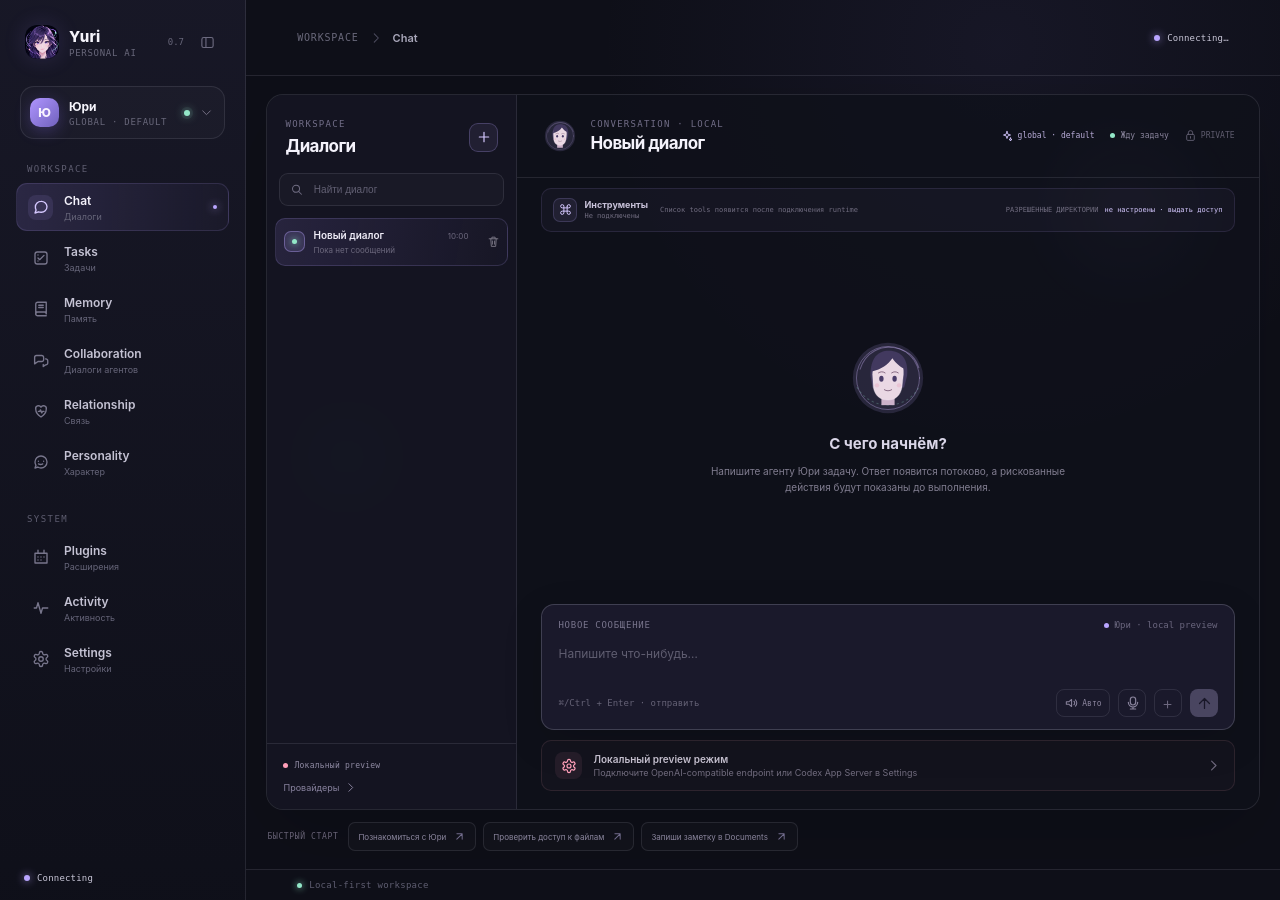
Test: portable agent profiles › opens a validated profile in the ordinary creation review without creating it
What coordinates should you click on to do the following:
click the button with class "sidebar__profile"
I would click on:
 (122, 112)
Its box is [20,86,225,139].
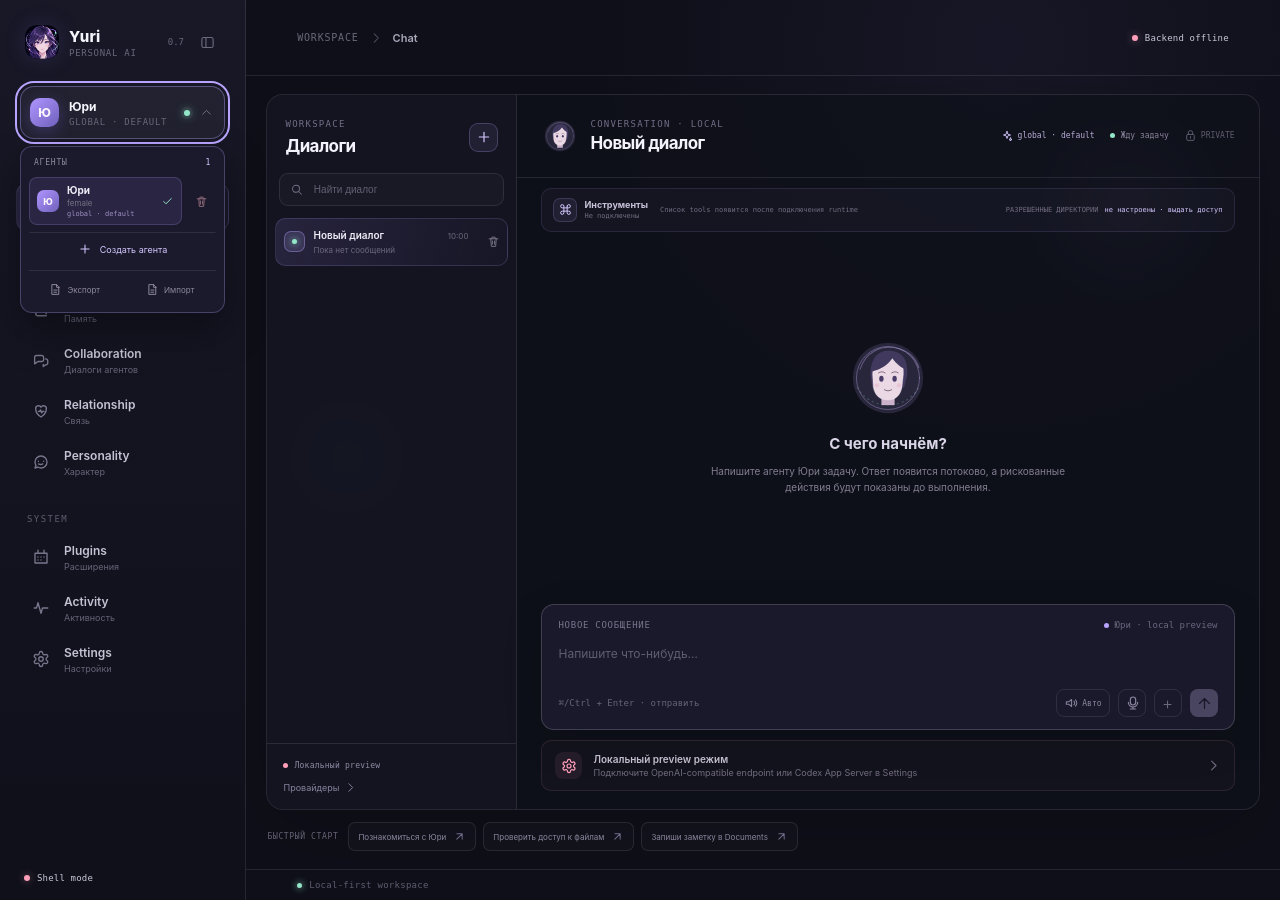
What coordinates should you click on to do the following:
click the button "Импорт"
I would click on:
 (170, 290)
Its box is [124,275,216,304].
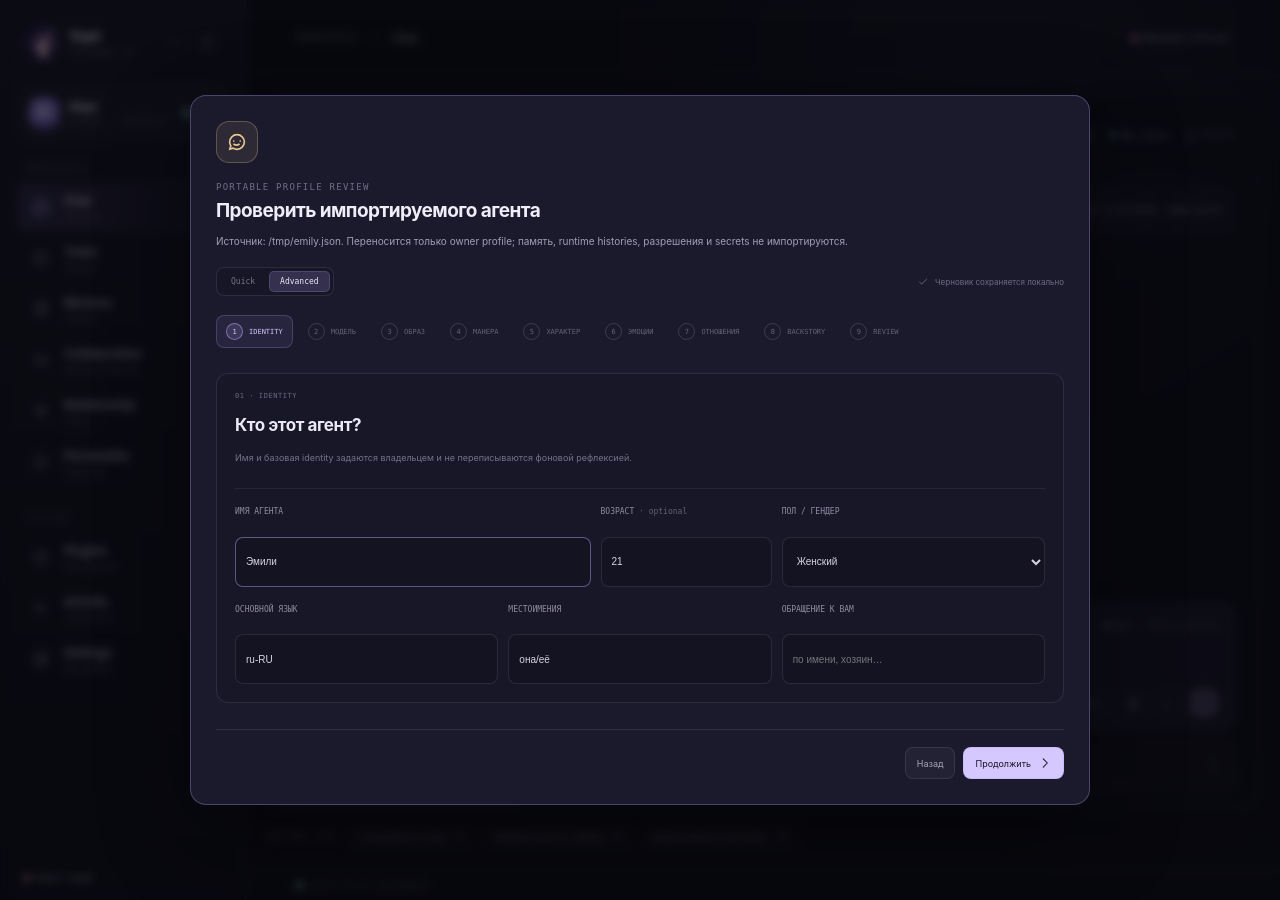
Now the heading "Проверить импортируемого агента" is shown, box [216,199,540,222]
Now the field labelled "Имя агента" holds "Эмили", box [235,537,590,586]
Now the text "память, runtime histories, разрешения и secrets не импортируются" is shown, box [216,235,848,247]
